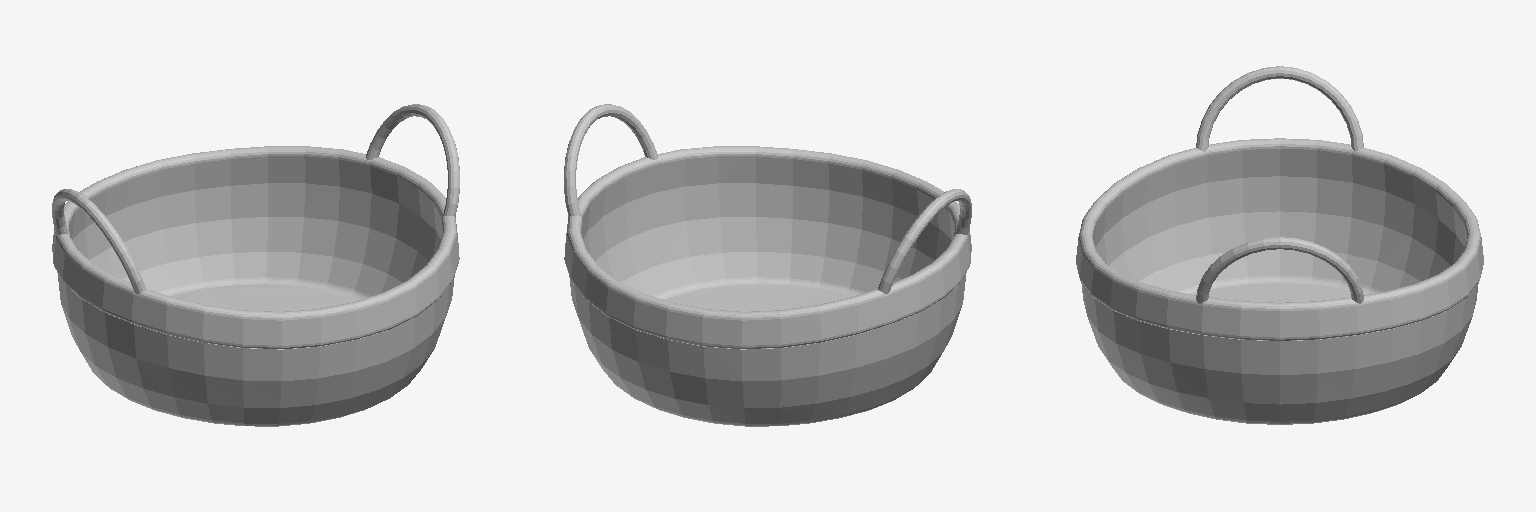
Rendered from SetA_BasketEmpty_Style_01.obj.
3 renders of one model, left to right at view 1: azimuth 30°, elevation 25°; view 2: azimuth 150°, elevation 25°; view 3: azimuth 270°, elevation 25°, orthographic.
Visible parts, largest first — view 1: SetA_BasketEmpty_Style_01; view 2: SetA_BasketEmpty_Style_01; view 3: SetA_BasketEmpty_Style_01.
Boxes of the visible parts, x1,y1,x2,y2 form: SetA_BasketEmpty_Style_01: [52, 104, 459, 426]; SetA_BasketEmpty_Style_01: [564, 104, 971, 426]; SetA_BasketEmpty_Style_01: [1076, 66, 1483, 424].
Bounding box in the file's own units: 0.693 × 0.3811 × 0.6793.